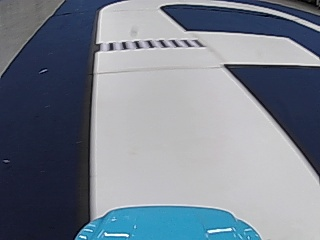CrossWalk: (102, 35, 201, 52)
